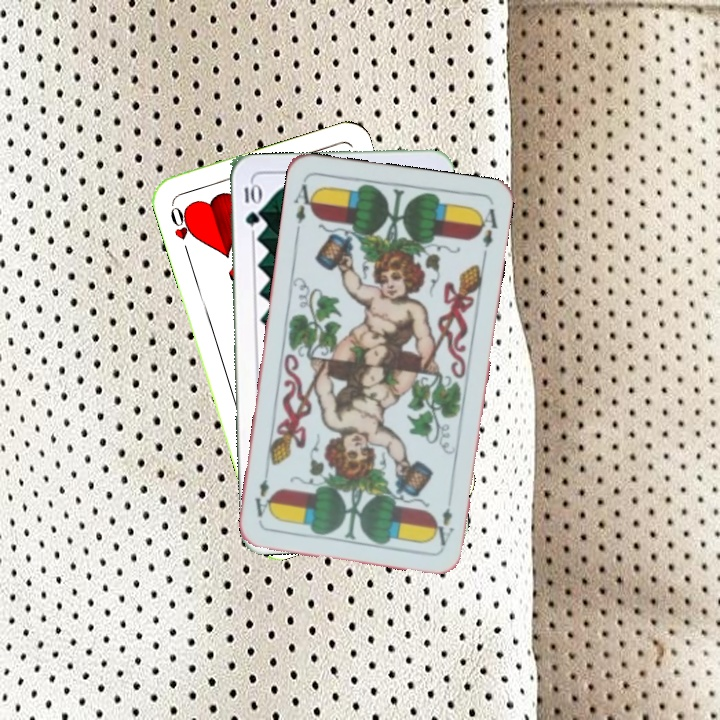EA: (290, 177, 319, 226), (430, 503, 457, 548)
G10: (240, 179, 262, 228)
HO: (166, 201, 198, 259)
